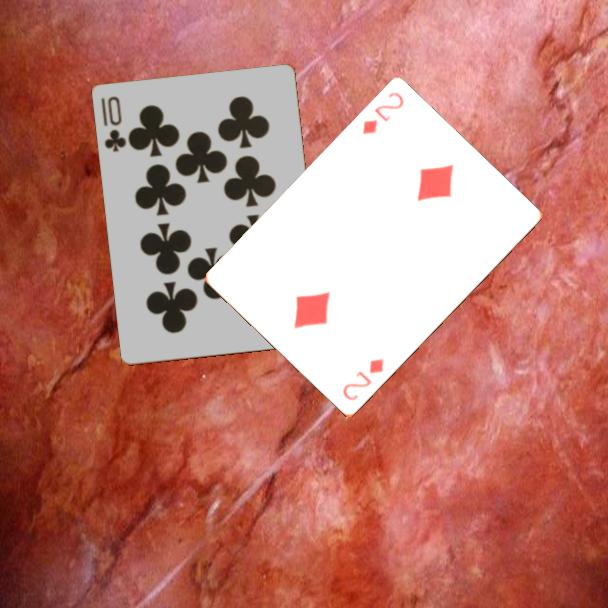c10: (98, 93, 129, 155)
d02: (339, 355, 387, 404), (359, 89, 407, 138)
